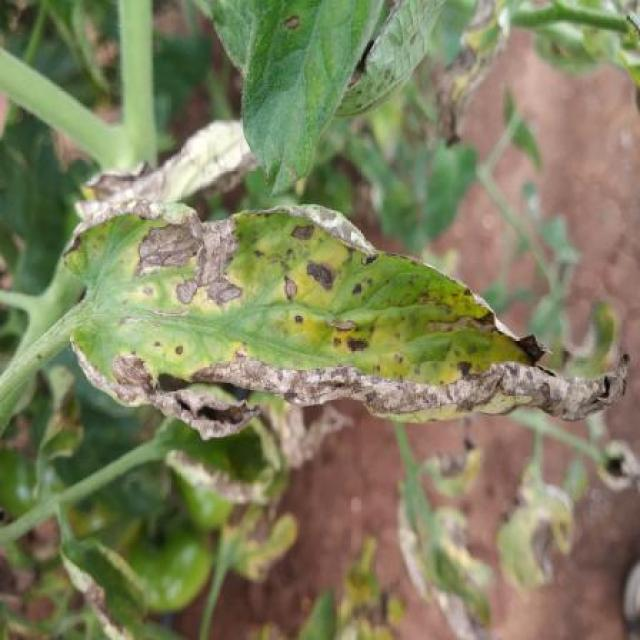Early Blight: (62, 197, 631, 440)
